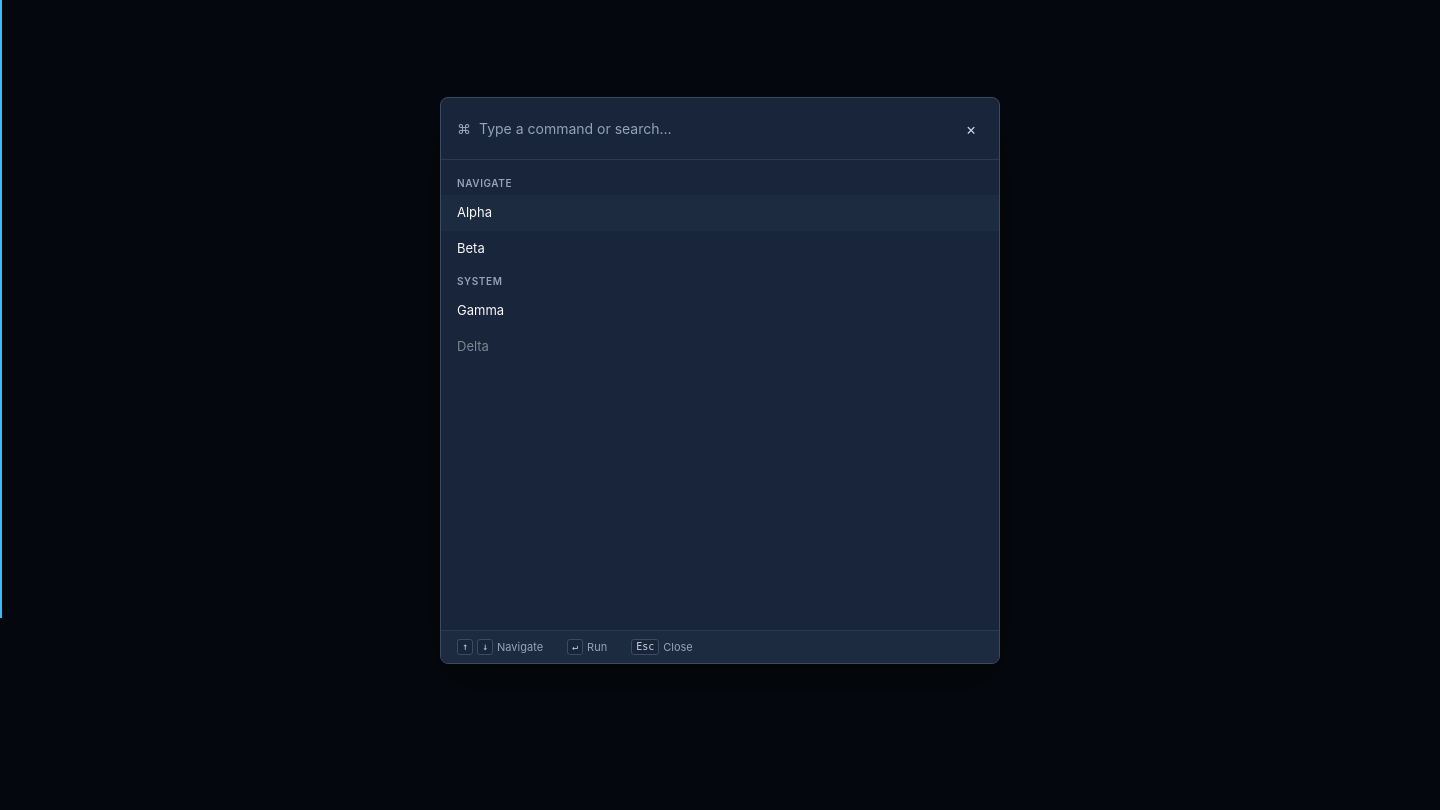
Test case: CommandPalette › shows no-results message when nothing matches
The width and height of the screenshot is (1440, 810).
Step 1. Type "zzzzz" into the field with placeholder "Type a command or search…" → {"x": 715, "y": 129}, box x1=479 y1=114 x2=951 y2=143
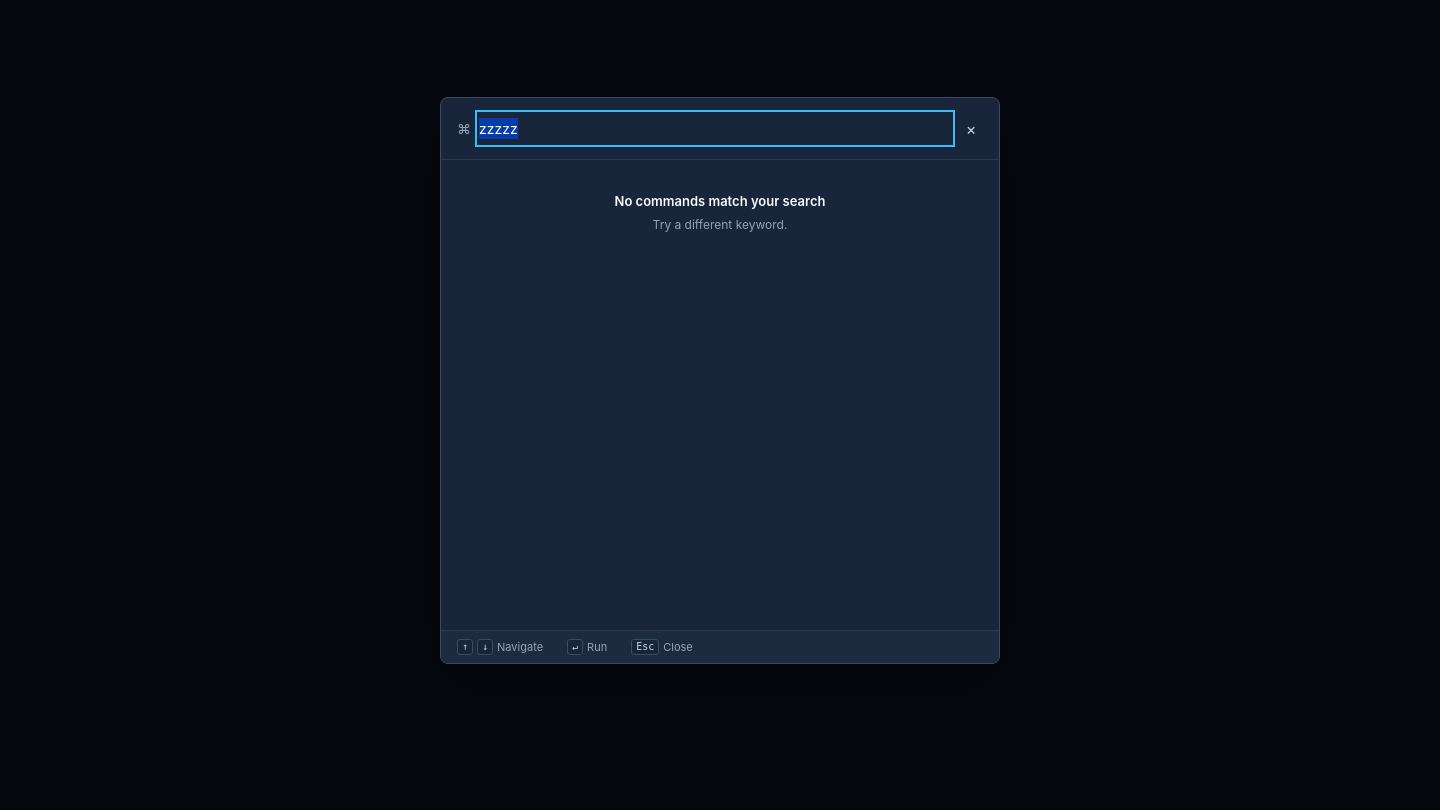
expect the text "No commands match your search" is shown: met, box x1=614 y1=193 x2=825 y2=209
